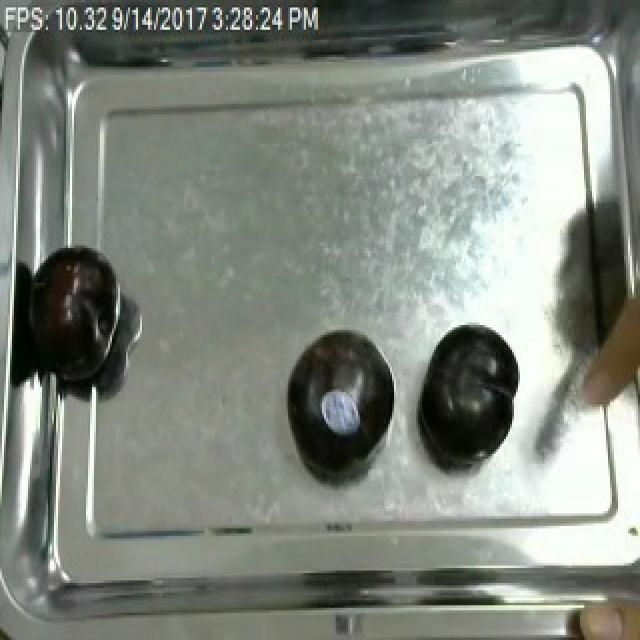Fruit: (410, 318, 526, 472), (30, 240, 126, 390), (282, 322, 396, 447)
